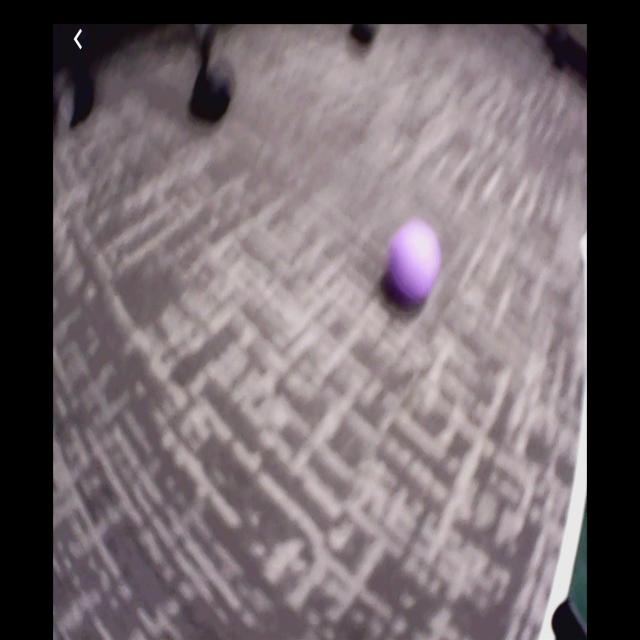ball: (390, 223, 442, 303)
